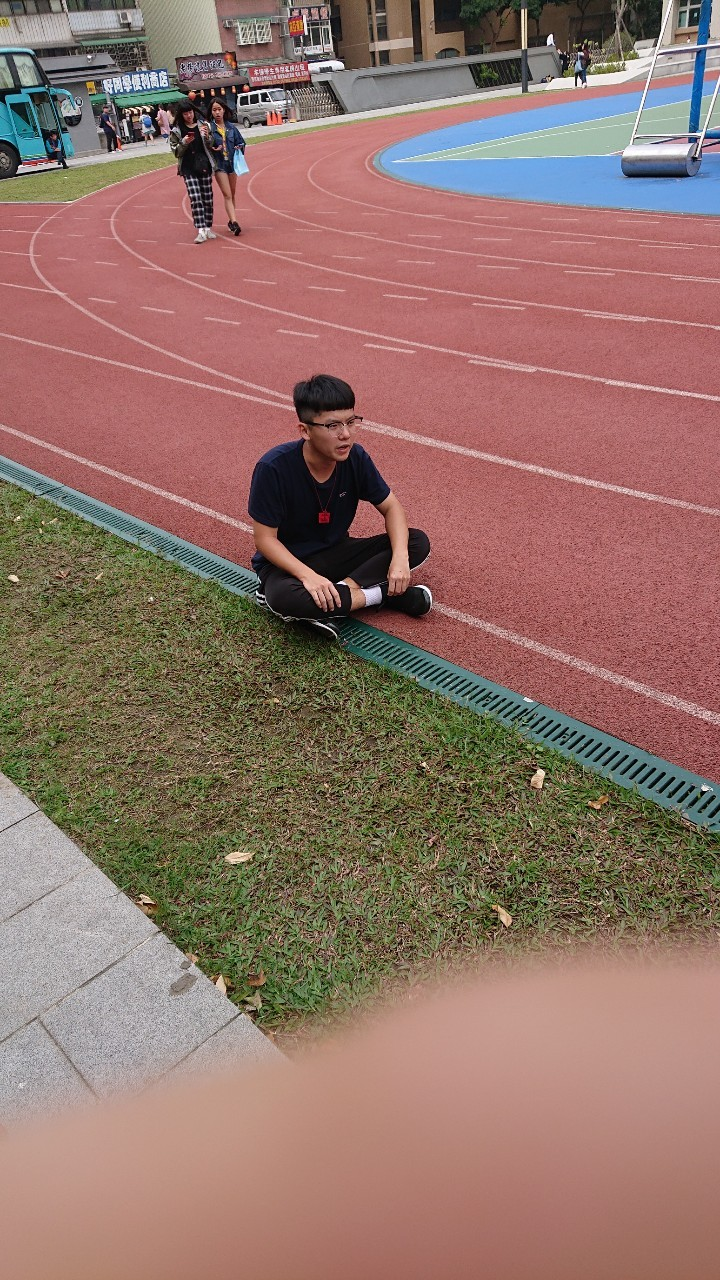people: (242, 372, 442, 655), (163, 92, 226, 251), (207, 94, 258, 241)
